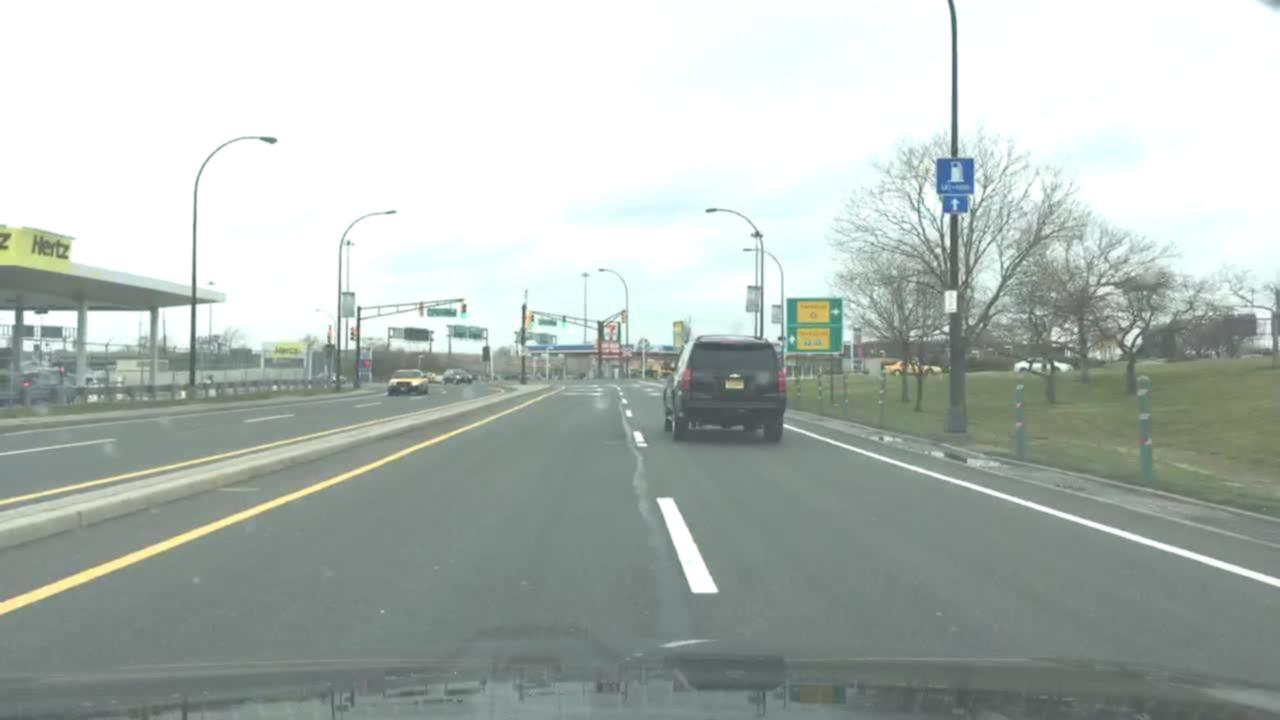chevrolet: (727, 371, 745, 383)
